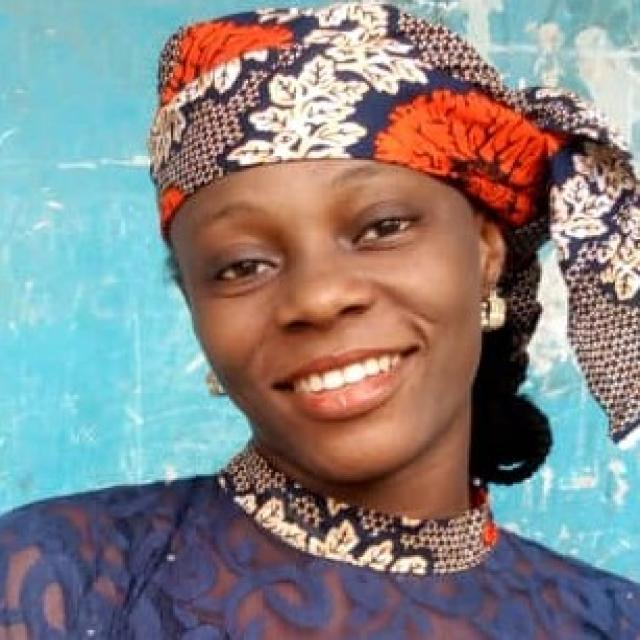happy: (152, 140, 512, 487)
